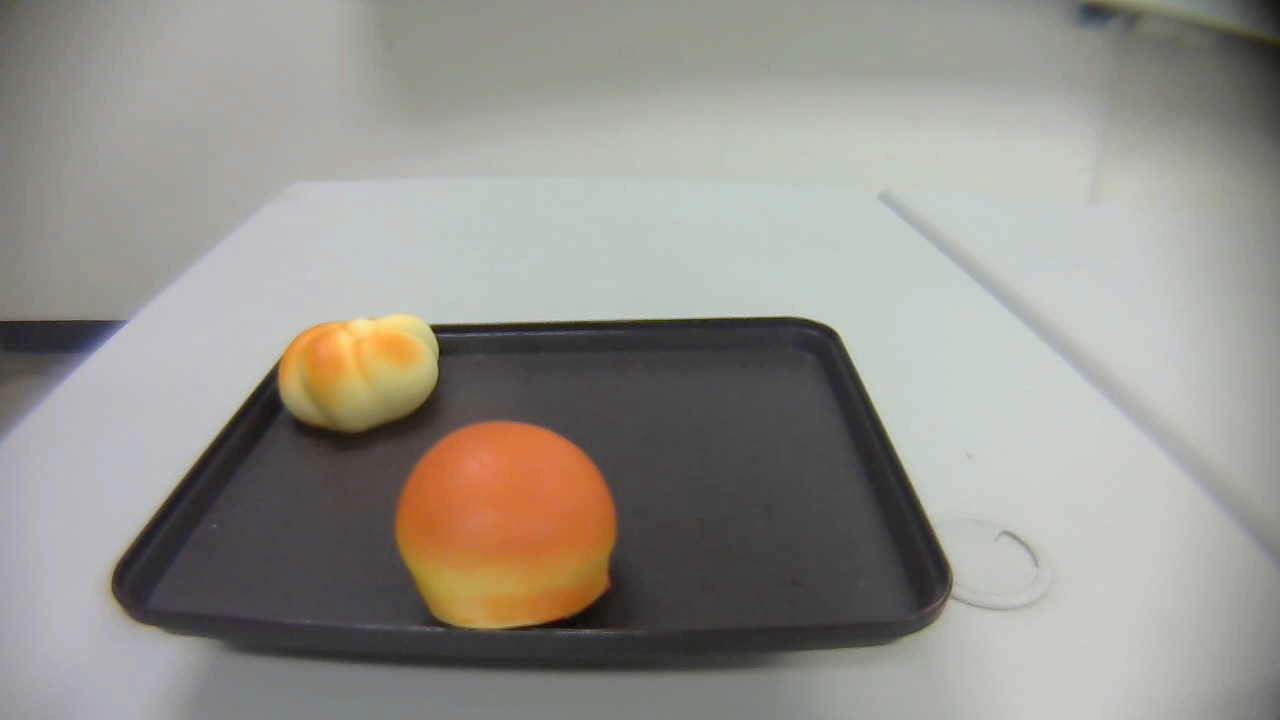bun: (394, 418, 620, 629)
twist bread: (277, 311, 439, 431)
